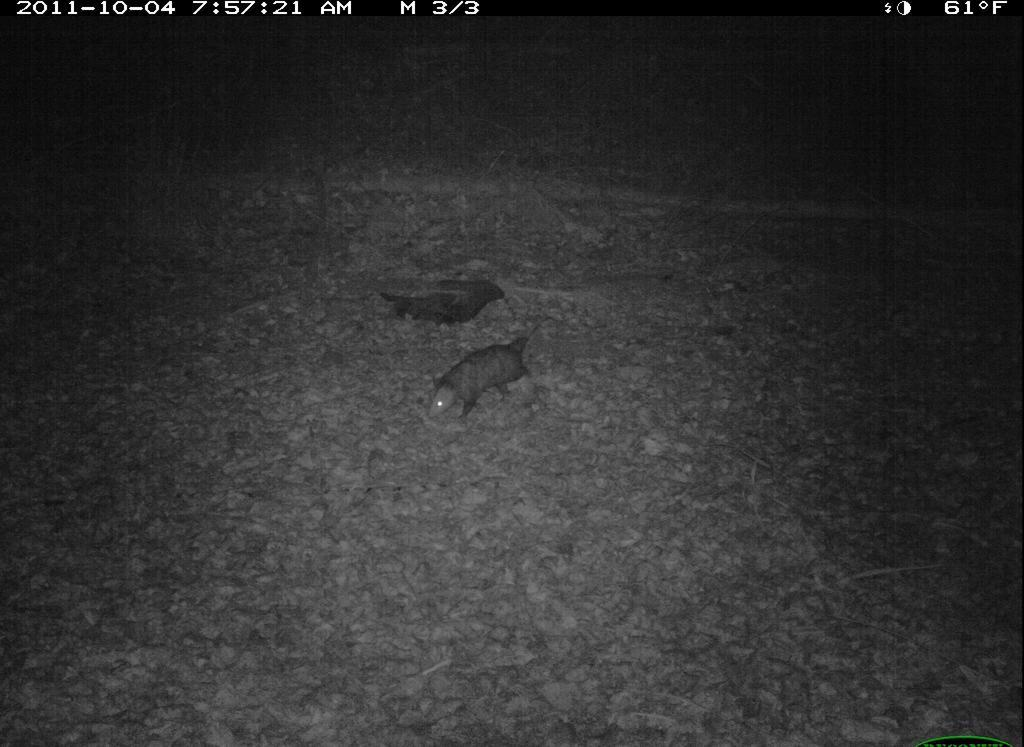opossum: (418, 326, 559, 432)
